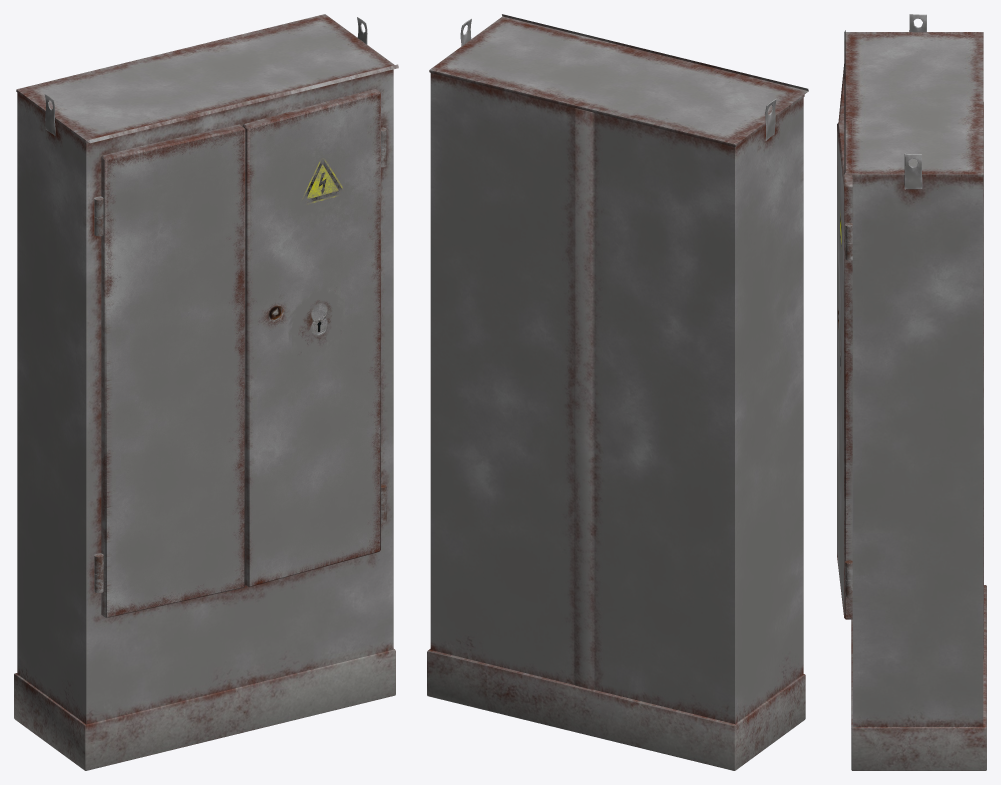
Rendered from old_soviet_transformer_low-poly.glb.
The picture shows the model from 3 angles, left to right: view 1: azimuth 30°, elevation 25°; view 2: azimuth 150°, elevation 25°; view 3: azimuth 270°, elevation 25°; orthographic projection. The views are drawn at different scales.
Visible parts, largest first — view 1: Object_4, Object_5, Object_3; view 2: Object_5; view 3: Object_5, Object_4, Object_2, Object_3.
Part boxes in pixels (x1=…): Object_4: x1=101, y1=89, x2=380, y2=618; Object_5: x1=14, y1=14, x2=398, y2=770; Object_3: x1=94, y1=127, x2=386, y2=593; Object_5: x1=427, y1=14, x2=808, y2=770; Object_5: x1=844, y1=30, x2=986, y2=770; Object_4: x1=837, y1=64, x2=852, y2=619; Object_2: x1=904, y1=14, x2=926, y2=189; Object_3: x1=845, y1=223, x2=852, y2=597.
Bounding box in the file's own units: 0.9896 × 1.97 × 0.4346.
4 materials, 4 textured.
